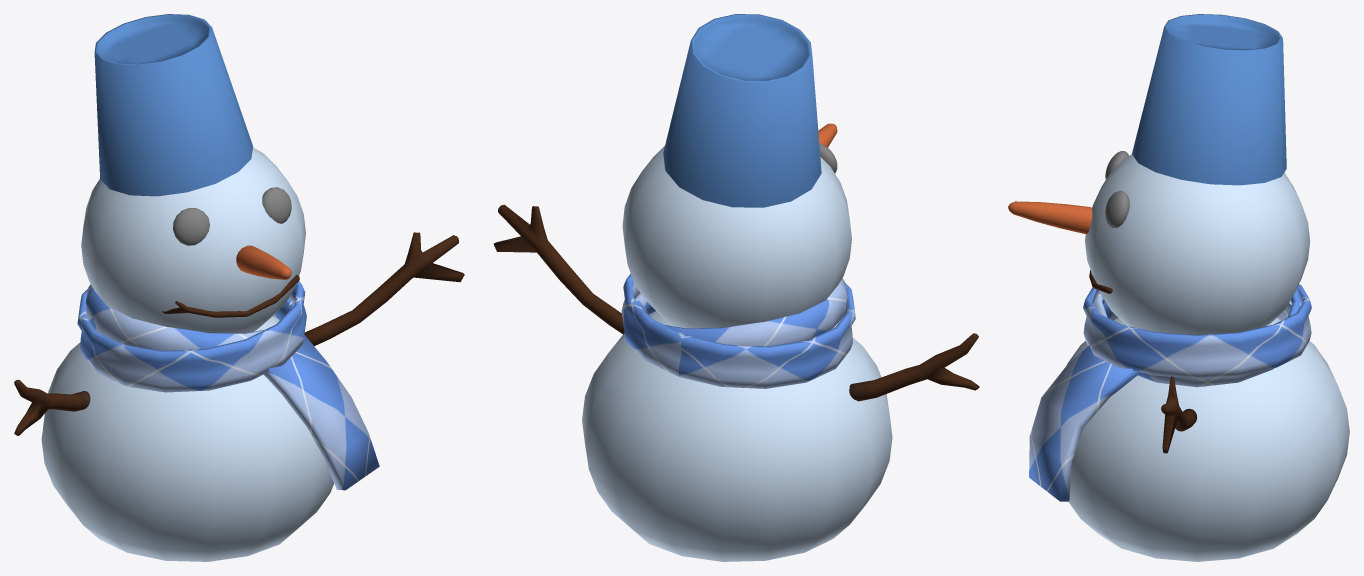
File: Yukidaruma.fbx
3 renders of one model, left to right at view 1: azimuth 30°, elevation 25°; view 2: azimuth 150°, elevation 25°; view 3: azimuth 270°, elevation 25°, orthographic. The views are drawn at different scales.
Parts seen in each view (by area): view 1: 円.006; view 2: 円.006; view 3: 円.006.
Part boxes in pixels (x1=…): 円.006: x1=14, y1=14, x2=464, y2=561; 円.006: x1=493, y1=14, x2=979, y2=561; 円.006: x1=1008, y1=14, x2=1349, y2=561.
Size of the model in its own units: 403 by 402 by 259.
1 material, 1 textured.
